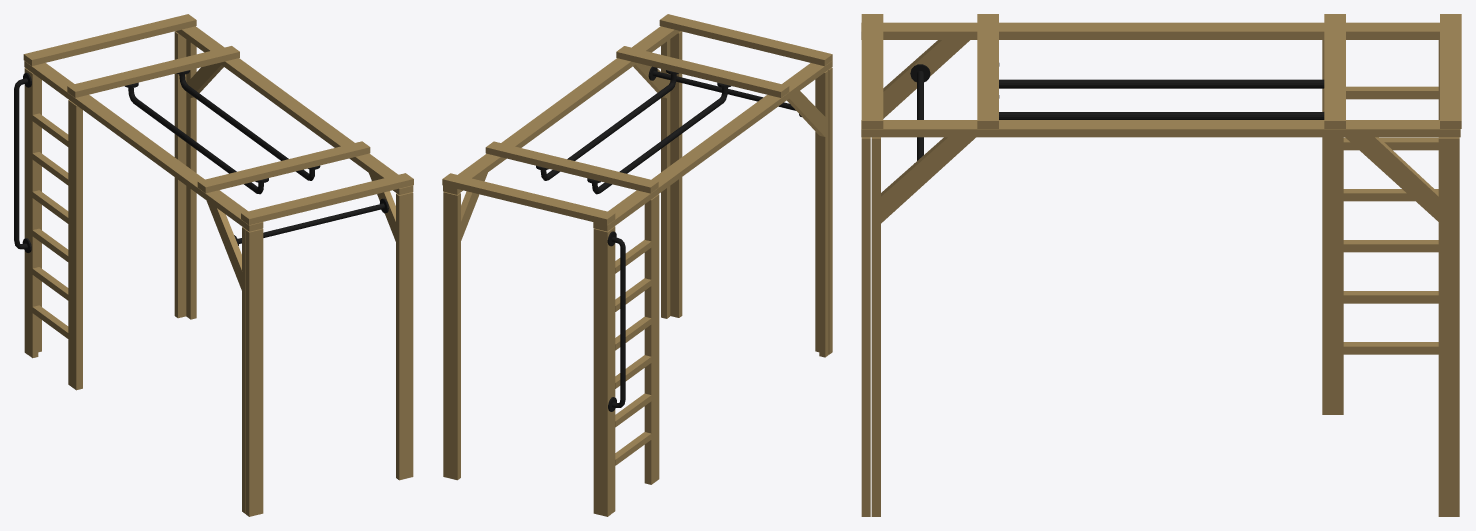
File: loft-bed-by-reyshapes-OCiSQXTJam.glb
3 views of the same model, side by side, from view 1: azimuth 30°, elevation 25°; view 2: azimuth 150°, elevation 25°; view 3: azimuth 270°, elevation 25° (orthographic). The views are drawn at different scales.
Visible parts, largest first — view 1: Cube.004; view 2: Cube.004; view 3: Cube.004.
Part boxes in pixels (x1,y1,x2,y2): Cube.004: (14, 14, 413, 516); Cube.004: (442, 14, 832, 516); Cube.004: (861, 14, 1461, 516).
Size of the model in its own units: 18 by 28.72 by 39.43.
